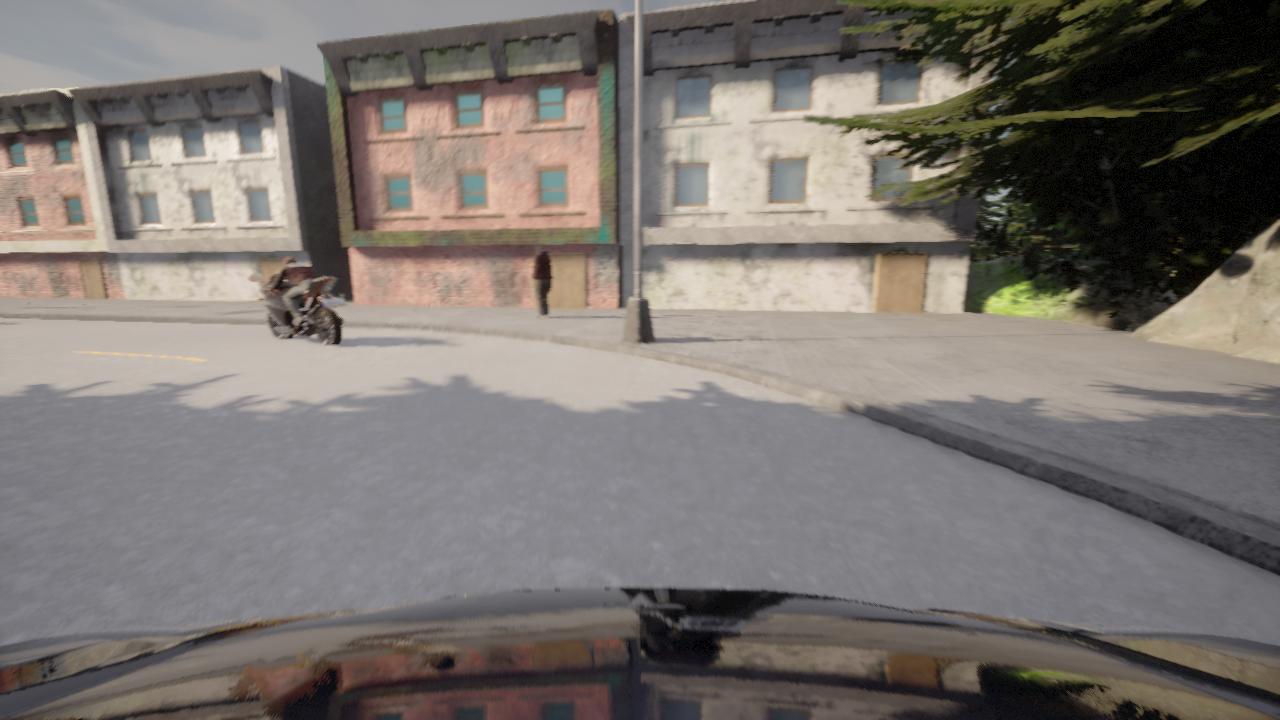cyclist: (0, 588, 1279, 719), (249, 273, 345, 346)
pedestrian: (531, 244, 552, 318)
